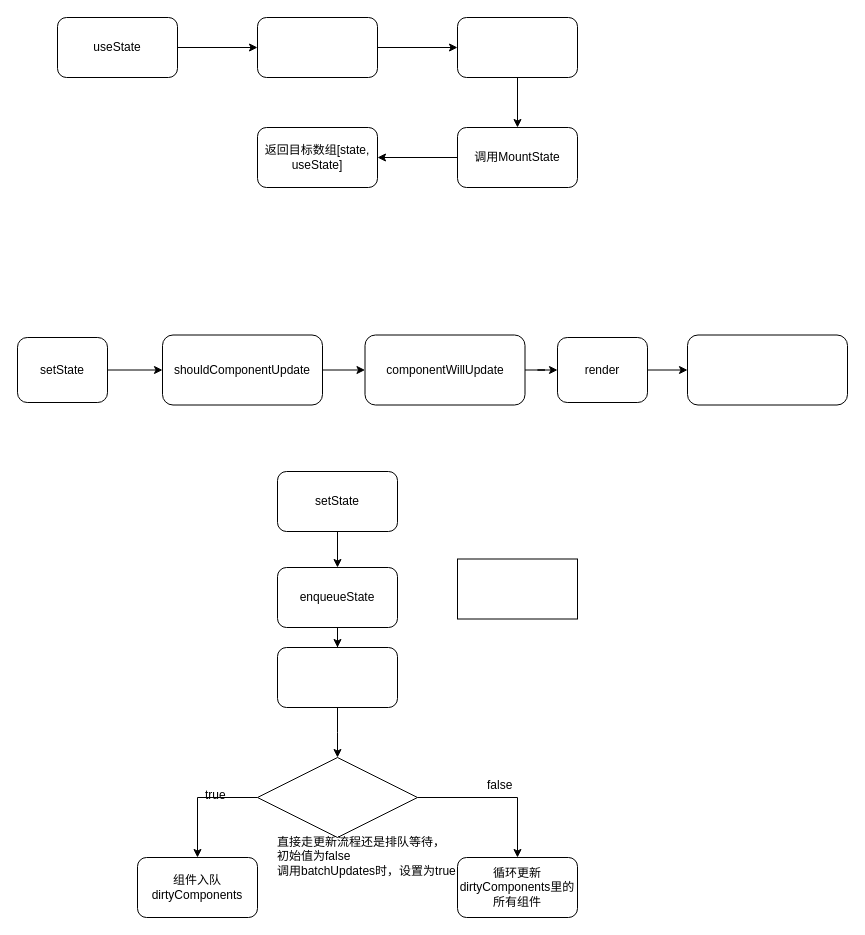
Some shapes in this 865 by 935 pixel diagram are drawn without their labels. Here are the shapes that lost their labels. From the top down, the box of each, then its label:
(256, 16, 378, 78): 通过resolveDispatcher获取dispatcher
(456, 16, 578, 78): 调用dispatcher.useState
(686, 334, 848, 405): componentDidUpdate
(456, 558, 578, 619): 1.将新的state放进组件的状态队列里 2.用enqueueUpstate来处理将要更新的实例对象
(276, 646, 398, 708): enqueueUpstate
(256, 756, 418, 838): isBatchingUpdates
